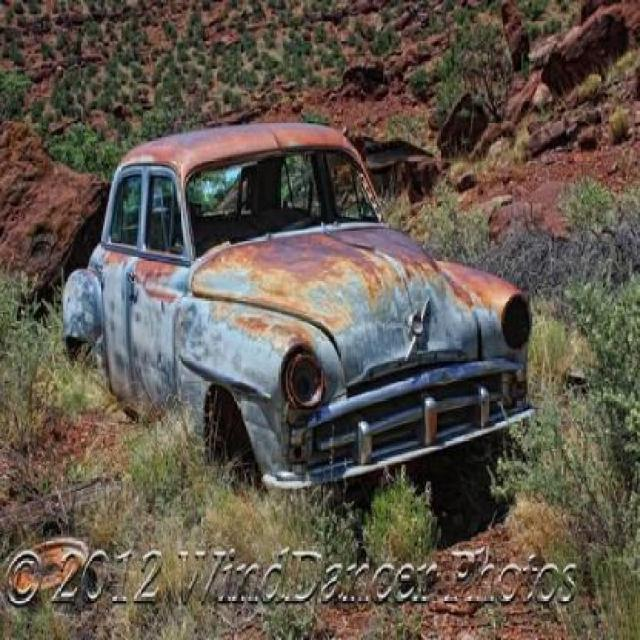corrosion: (61, 112, 534, 492)
